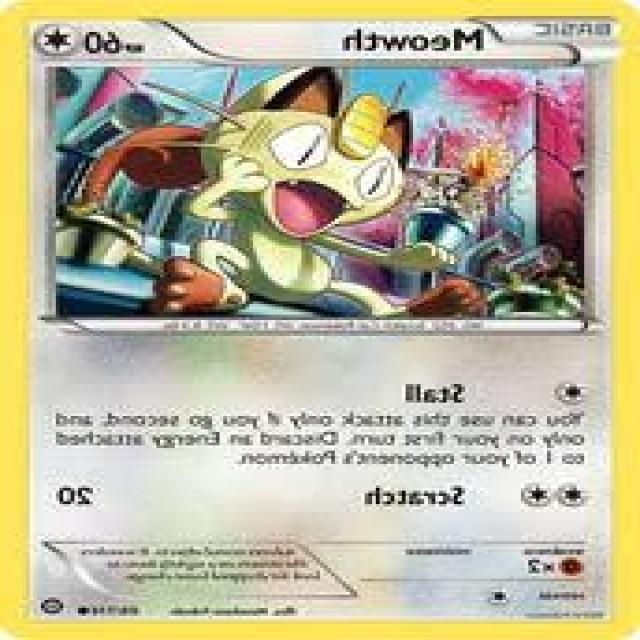Meowth: (187, 67, 408, 312)
